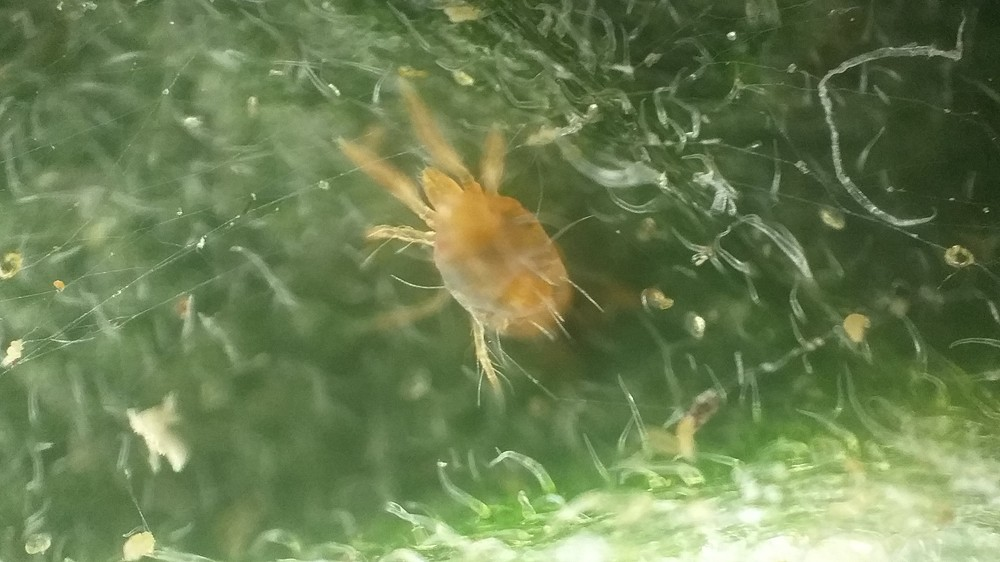Aracnido Rojo: (301, 76, 665, 419)
